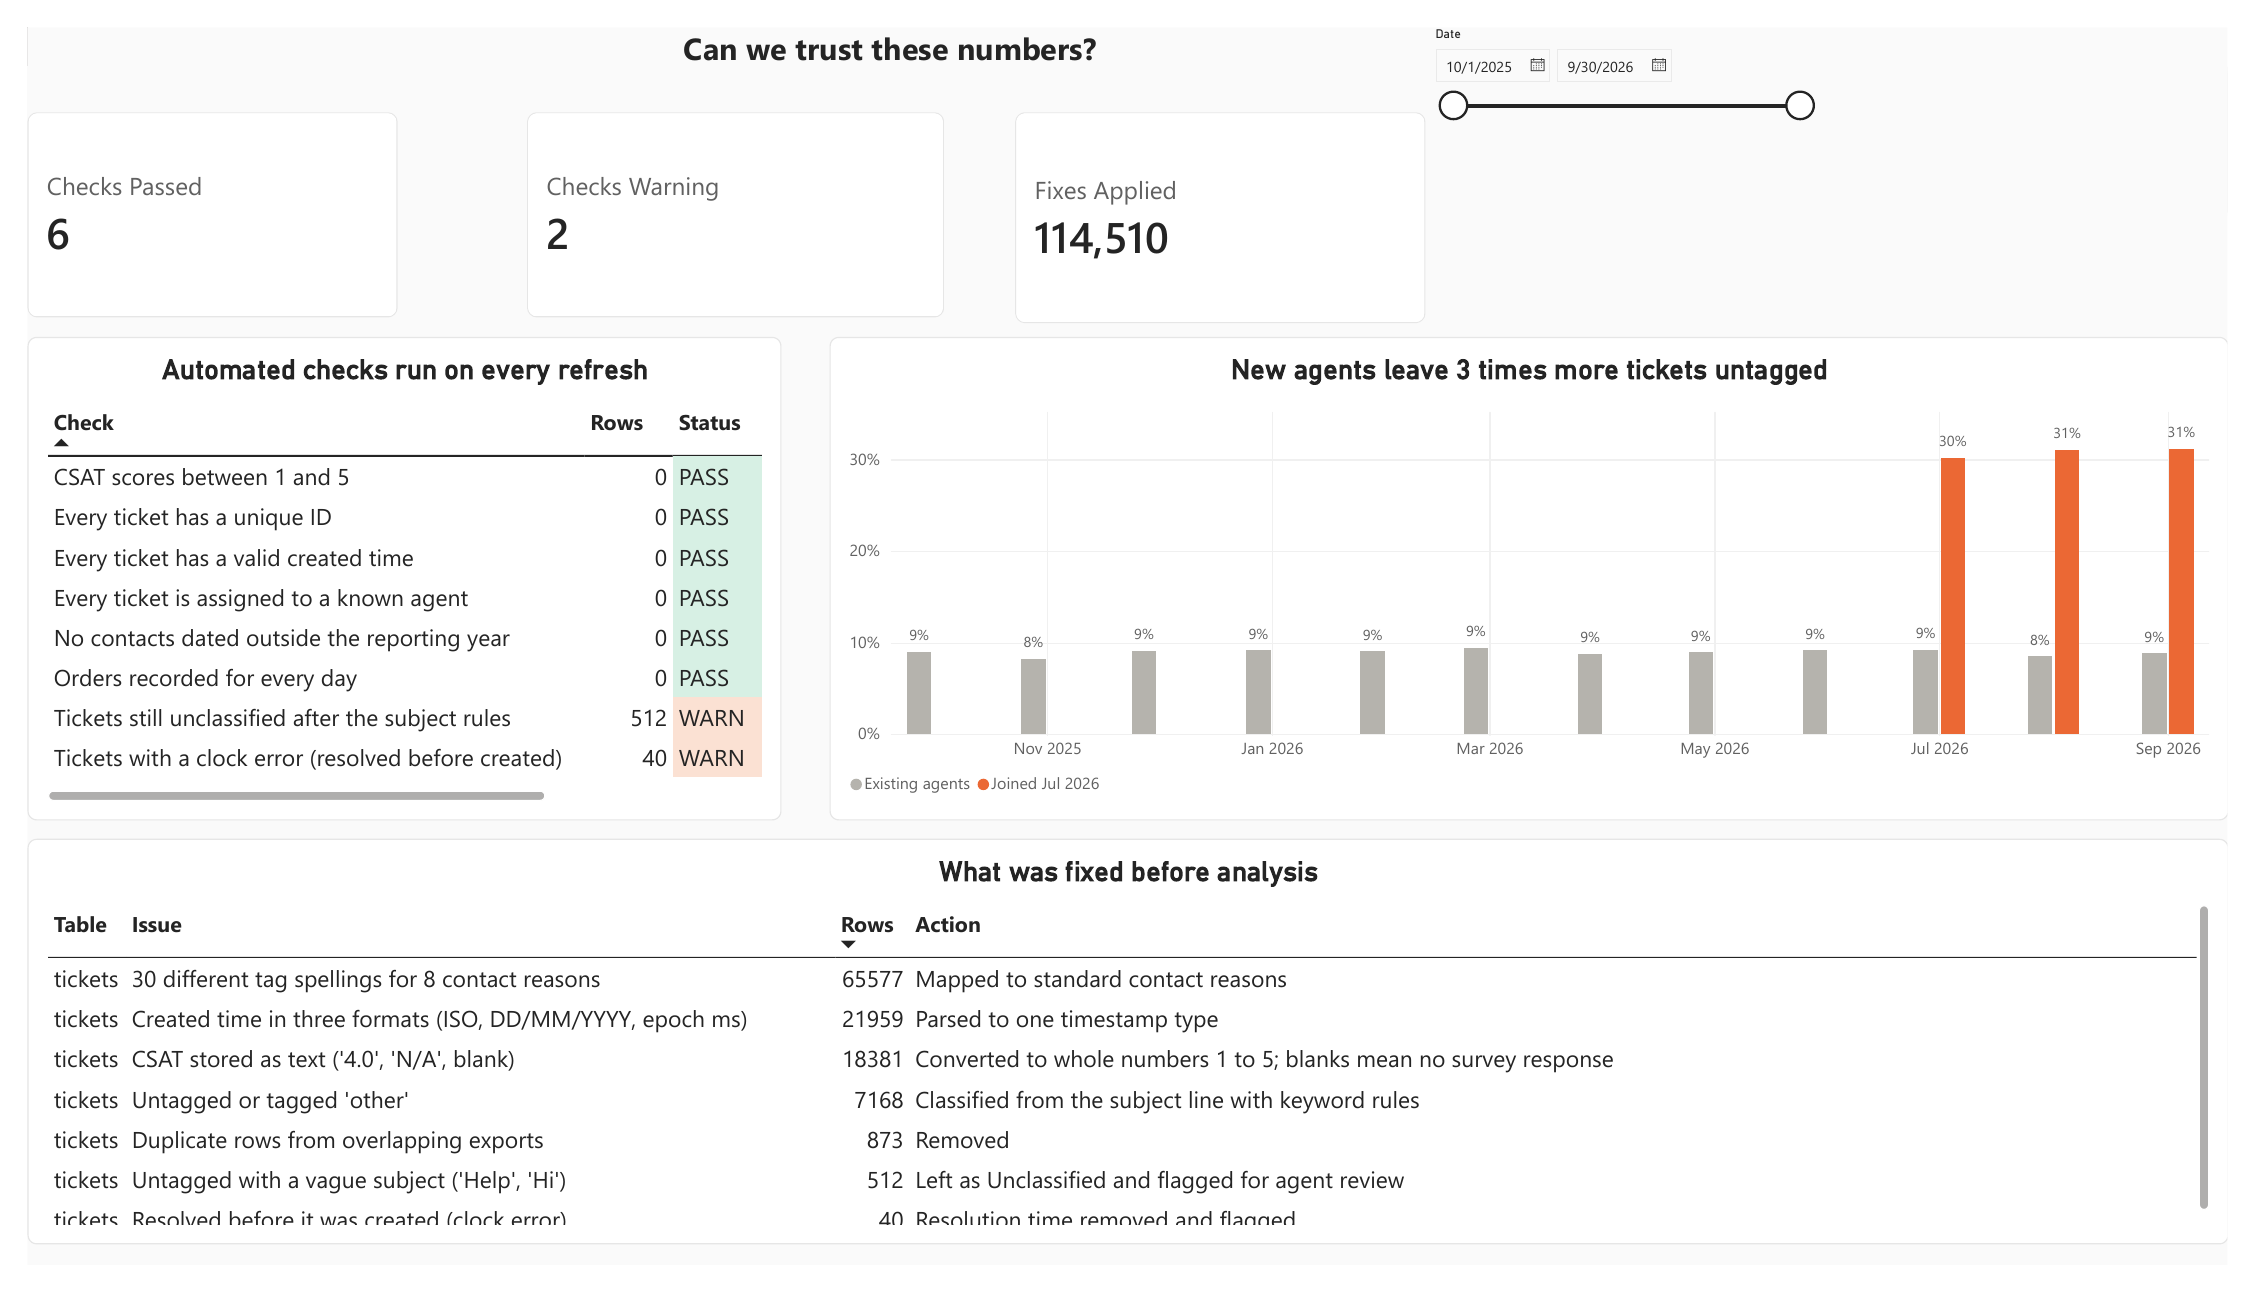

This screenshot's page, from the dashboard's own definition file:
{"tool":"powerbi","page":{"name":"Data Quality","canvas":[1920,1080],"ordinal":3},"visuals":[{"type":"textbox","box":[257.7,0,990.2,74],"z":0},{"type":"slicer","fields":{"Values":["Dates.Date"]},"box":[1221.1,0,342.1,115.8],"z":1000},{"type":"cardVisual","fields":{"Data":["_measures (2).Checks Passed"]},"box":[0,74.4,323.1,179.5],"z":2000},{"type":"cardVisual","fields":{"Data":["_measures (2).Checks Warning"]},"box":[435.9,74.4,364.1,179.5],"z":3000},{"type":"cardVisual","fields":{"Data":["_measures (2).Rows Fixed"]},"box":[861.5,74.4,359,184.6],"z":4000},{"type":"tableEx","title":"Automated checks run on every refresh","fields":{"Values":["QualityChecks.check","Sum(QualityChecks.failing_rows)","QualityChecks.status"]},"box":[0,269.8,658.5,422.6],"z":5000},{"type":"tableEx","title":"What was fixed before analysis","fields":{"Values":["Cleaninglog.table","Cleaninglog.issue","Sum(Cleaninglog.rows_affected)","Cleaninglog.action"]},"box":[0,707.5,1920.8,354.7],"z":6000},{"type":"clusteredColumnChart","title":"New agents leave 3 times more tickets untagged","fields":{"Category":["Dates.Month Start"],"Series":["TaggingAudit.agent_cohort"],"Y":["_measures (2).Untagged Rate"]},"box":[700,269.8,1220.8,422.6],"z":7000}]}

Visuals, with their boxes in screenshot pixels (x1, y1, x2, y2), scaled from the page's 1920x1080 canvas onto the 2255x1293 screenshot:
textbox: box(303, 0, 1466, 89)
slicer - Dates.Date: box(1434, 0, 1836, 139)
cardVisual - _measures (2).Checks Passed: box(0, 89, 379, 304)
cardVisual - _measures (2).Checks Warning: box(512, 89, 940, 304)
cardVisual - _measures (2).Rows Fixed: box(1012, 89, 1433, 310)
"Automated checks run on every refresh" tableEx: box(0, 323, 773, 829)
"What was fixed before analysis" tableEx: box(0, 847, 2254, 1272)
"New agents leave 3 times more tickets untagged" clusteredColumnChart: box(822, 323, 2254, 829)
